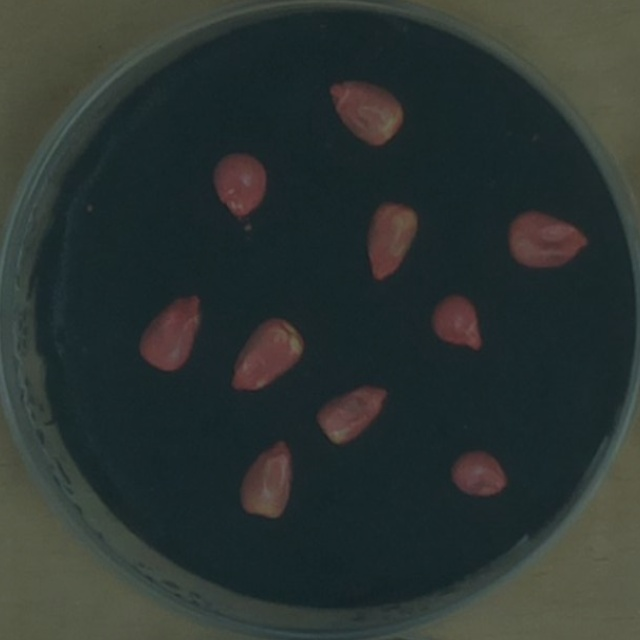Zea mays: (223, 308, 311, 399), (320, 68, 411, 155), (499, 200, 597, 276), (131, 287, 211, 379), (308, 376, 395, 451), (231, 431, 299, 525), (358, 192, 425, 286), (205, 144, 275, 225), (422, 285, 490, 358), (442, 438, 513, 502)
